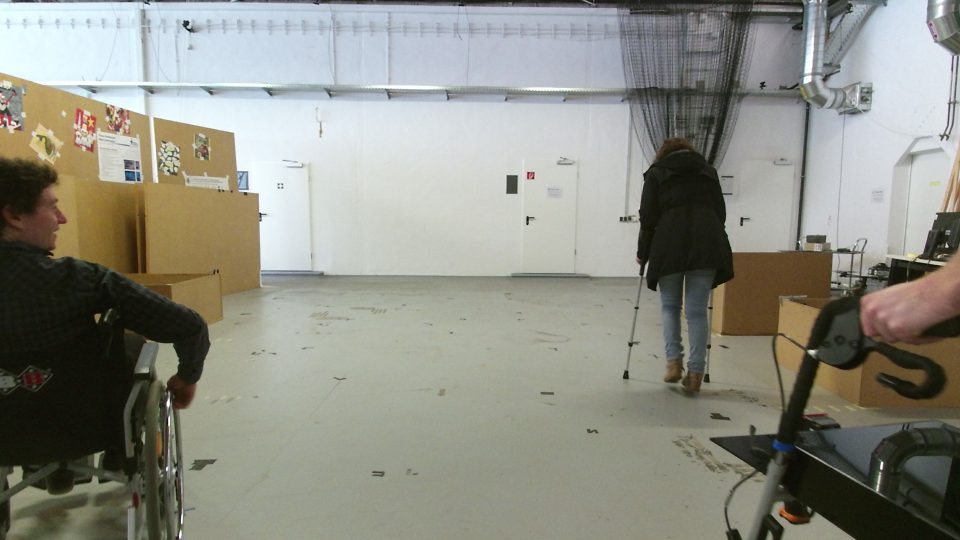crutches: (614, 129, 735, 401)
wheelchair: (1, 149, 215, 540)
